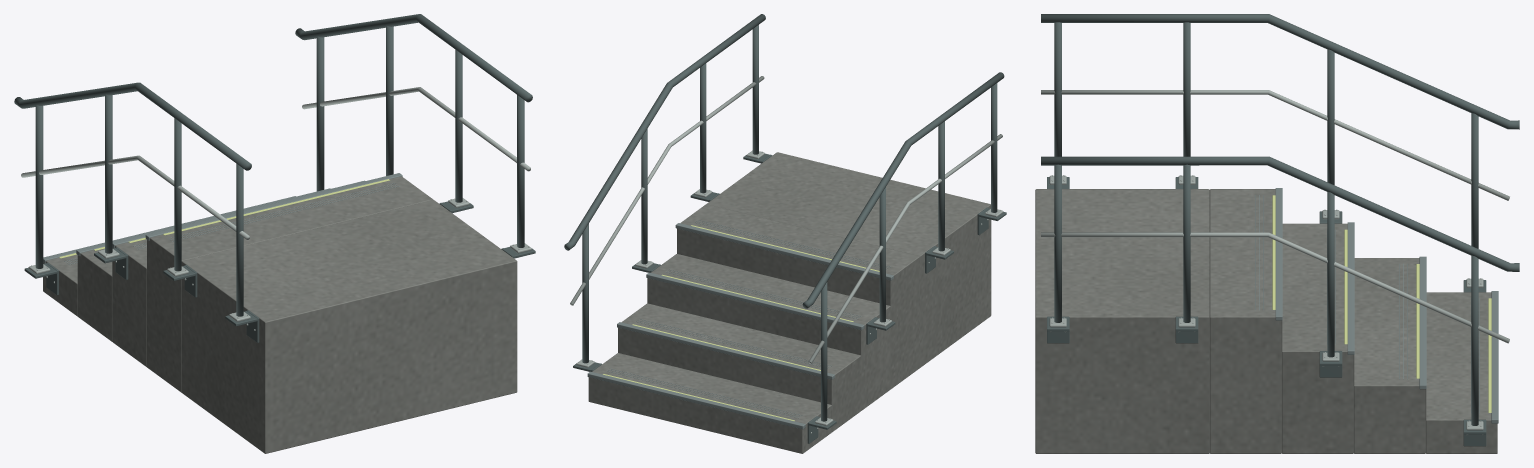
File: stairs.glb
The picture shows the model from 3 angles, left to right: view 1: azimuth 30°, elevation 25°; view 2: azimuth 150°, elevation 25°; view 3: azimuth 270°, elevation 25°; orthographic projection. The views are drawn at different scales.
Visible parts, largest first — view 1: stairs__Warm_architectural_concrete, stairs__Brushed_charcoal_handrail, stairs__Satin_bead-blasted_aluminium, stairs__Tread_nosing_anodised_aluminium, stairs__Subtle_safety_stripe; view 2: stairs__Warm_architectural_concrete, stairs__Brushed_charcoal_handrail, stairs__Tread_nosing_anodised_aluminium, stairs__Satin_bead-blasted_aluminium, stairs__Subtle_safety_stripe; view 3: stairs__Warm_architectural_concrete, stairs__Brushed_charcoal_handrail, stairs__Satin_bead-blasted_aluminium, stairs__Tread_nosing_anodised_aluminium, stairs__Subtle_safety_stripe.
Part boxes in pixels (x1=…): stairs__Warm_architectural_concrete: x1=43, y1=176, x2=517, y2=453; stairs__Brushed_charcoal_handrail: x1=14, y1=14, x2=535, y2=342; stairs__Satin_bead-blasted_aluminium: x1=21, y1=87, x2=531, y2=330; stairs__Tread_nosing_anodised_aluminium: x1=43, y1=173, x2=402, y2=264; stairs__Subtle_safety_stripe: x1=59, y1=179, x2=390, y2=258; stairs__Warm_architectural_concrete: x1=588, y1=152, x2=991, y2=453; stairs__Brushed_charcoal_handrail: x1=564, y1=14, x2=1006, y2=443; stairs__Tread_nosing_anodised_aluminium: x1=587, y1=220, x2=893, y2=429; stairs__Satin_bead-blasted_aluminium: x1=570, y1=76, x2=1003, y2=433; stairs__Subtle_safety_stripe: x1=603, y1=225, x2=879, y2=421; stairs__Warm_architectural_concrete: x1=1035, y1=189, x2=1497, y2=453; stairs__Brushed_charcoal_handrail: x1=1041, y1=14, x2=1519, y2=446; stairs__Satin_bead-blasted_aluminium: x1=1041, y1=90, x2=1509, y2=435; stairs__Tread_nosing_anodised_aluminium: x1=1255, y1=188, x2=1498, y2=423; stairs__Subtle_safety_stripe: x1=1272, y1=195, x2=1491, y2=412.
Size of the model in its own units: 1.9 by 1.77 by 2.55.
Materials: 5 (1 with a texture image).
